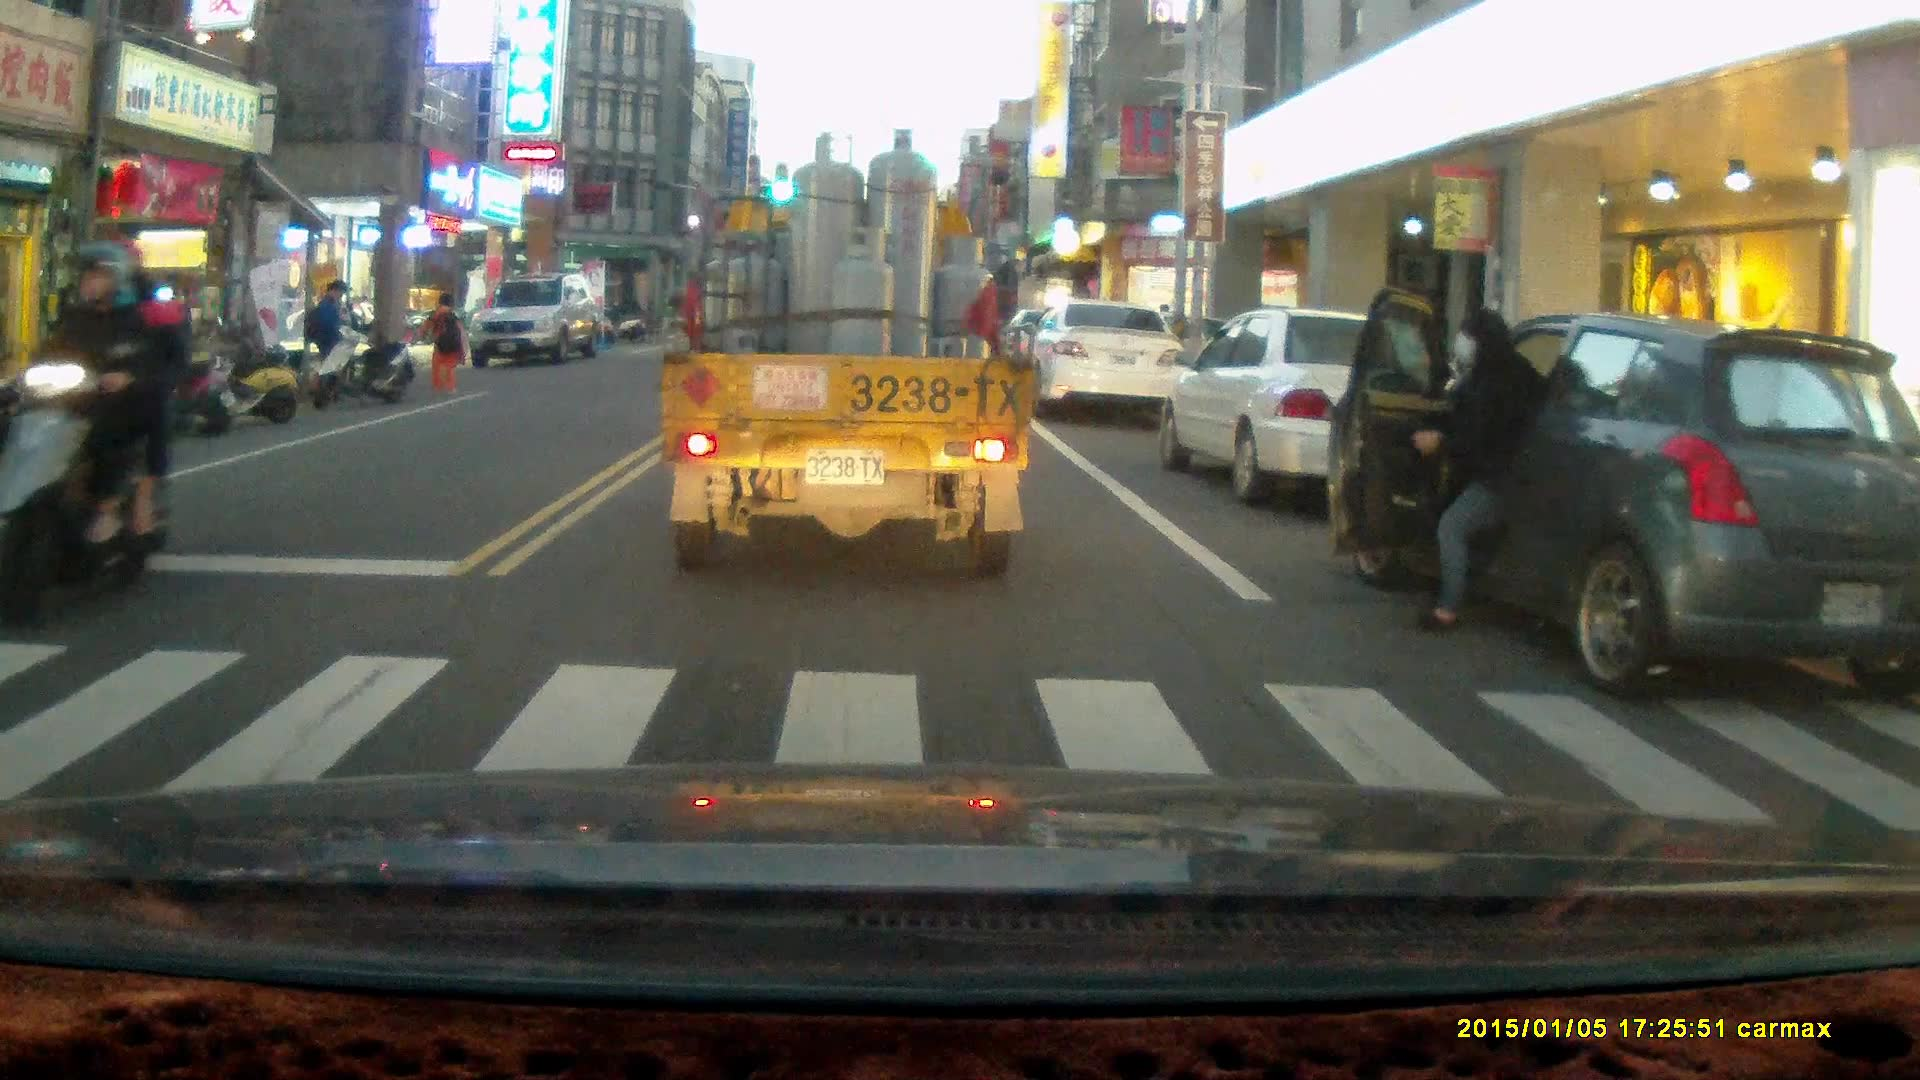pedestrian: (1402, 304, 1543, 636), (413, 288, 465, 390), (304, 277, 348, 397)
rider: (0, 237, 185, 622)
vehicle: (1338, 316, 1920, 703), (657, 125, 1038, 580), (1172, 312, 1503, 510), (1020, 298, 1190, 422), (467, 279, 609, 367)
